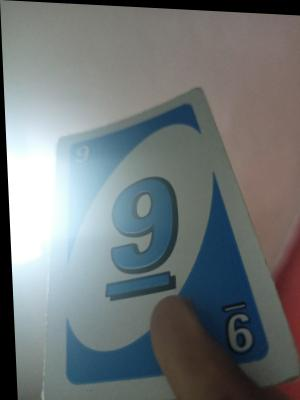blue: (72, 140, 232, 358)
